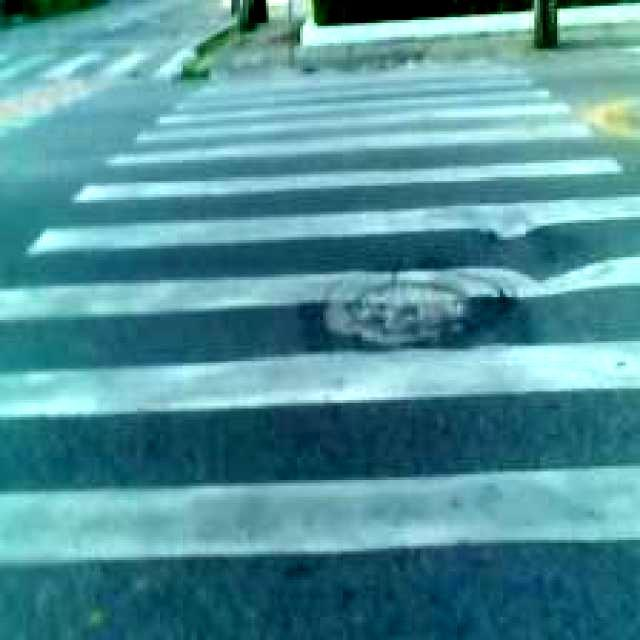crosswalk: (2, 34, 638, 630)
